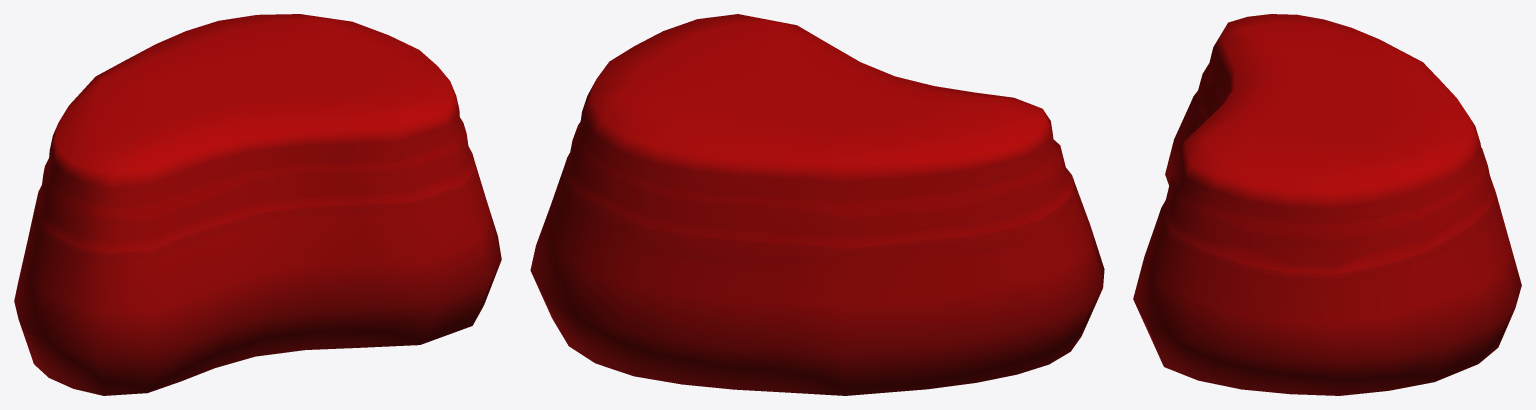
Rendered from geology-landforms-sandstonerocktiny_v1.fbx.
The picture shows the model from 3 angles, left to right: view 1: azimuth 30°, elevation 25°; view 2: azimuth 150°, elevation 25°; view 3: azimuth 270°, elevation 25°; orthographic projection. The views are drawn at different scales.
Parts seen in each view (by area): view 1: SandstoneRockTiny_v1; view 2: SandstoneRockTiny_v1; view 3: SandstoneRockTiny_v1.
Boxes of the visible parts, x1,y1,x2,y2 form: SandstoneRockTiny_v1: (14, 14, 501, 395); SandstoneRockTiny_v1: (530, 14, 1104, 395); SandstoneRockTiny_v1: (1133, 14, 1521, 395).
Bounding box in the file's own units: 42.06 × 18.49 × 32.14.
